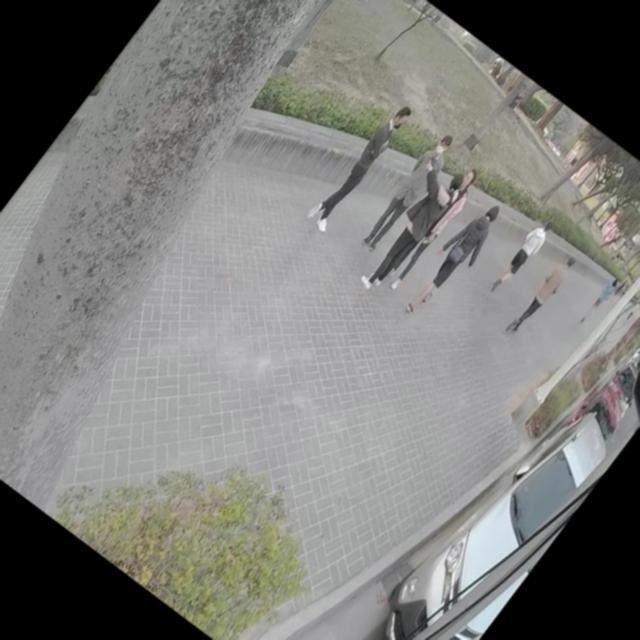person: (338, 146, 473, 302), (391, 188, 514, 332), (308, 100, 416, 233), (386, 162, 490, 292), (356, 129, 460, 256), (502, 250, 581, 344), (486, 210, 562, 298), (577, 272, 625, 328)
